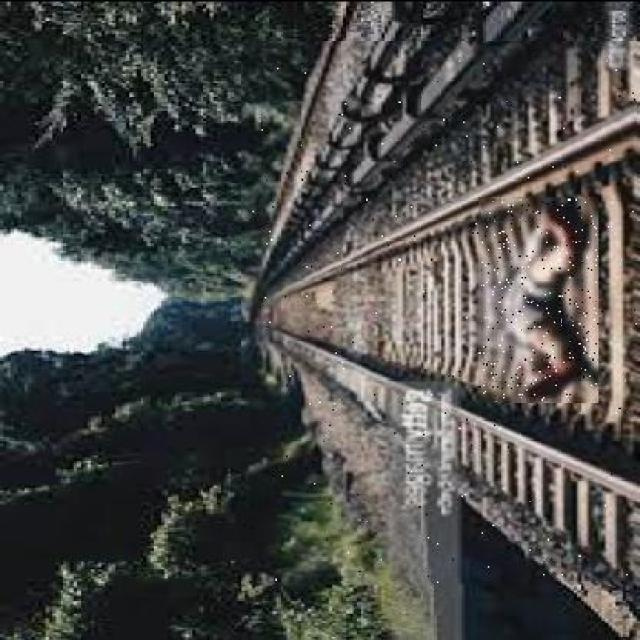danger: (479, 196, 598, 402)
rail: (241, 39, 637, 581)
